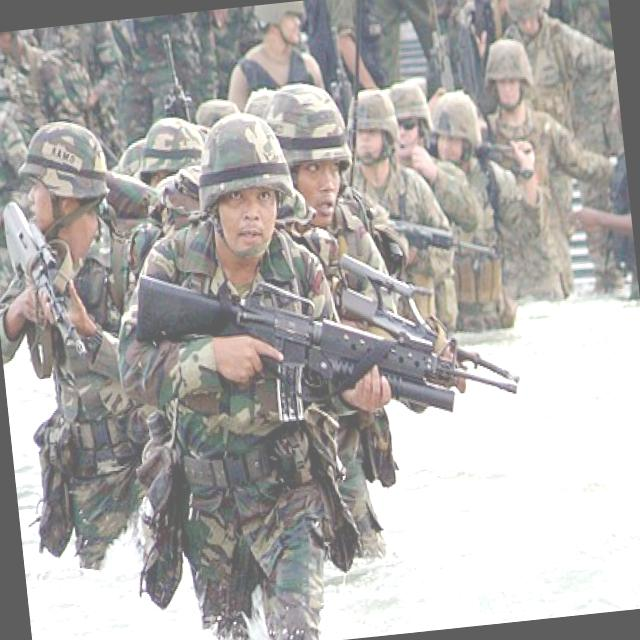m16: (91, 215, 526, 506)
